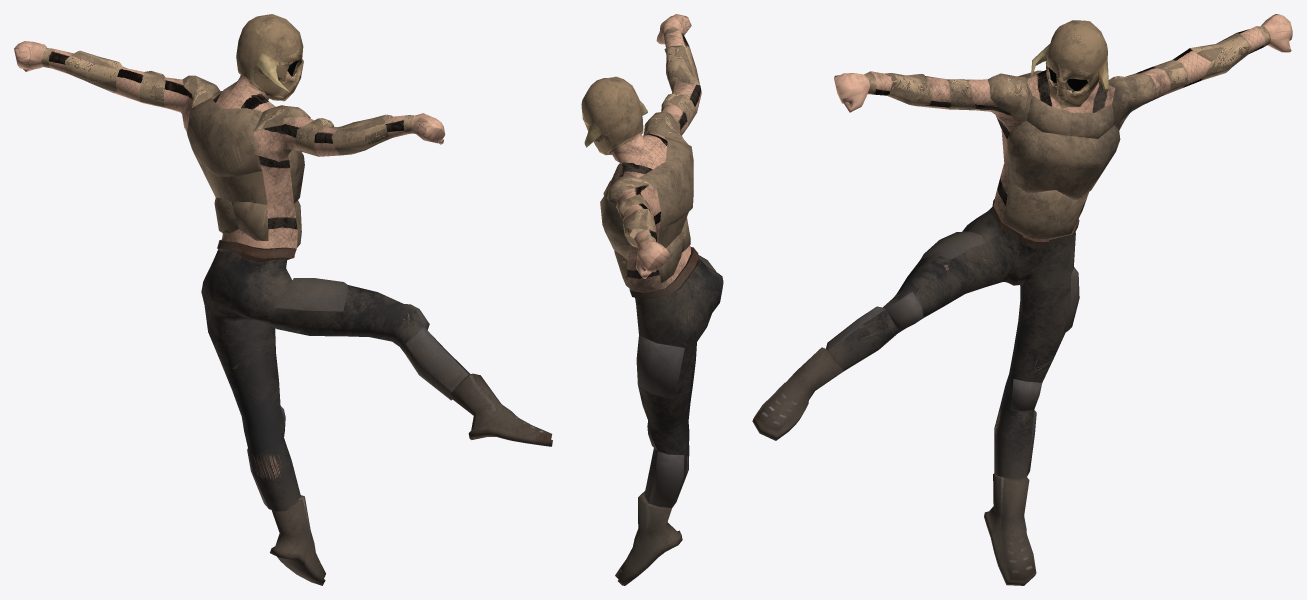
The model's file is Anim_ataque_f3_npc1.0029.obj.
3 views of the same model, side by side, from view 1: azimuth 30°, elevation 25°; view 2: azimuth 150°, elevation 25°; view 3: azimuth 270°, elevation 25° (orthographic). The views are drawn at different scales.
Visible parts, largest first — view 1: NPC2; view 2: NPC2; view 3: NPC2.
Part boxes in pixels (left/top/right/bottom): NPC2: left=14, top=14, right=552, bottom=585; NPC2: left=581, top=14, right=723, bottom=585; NPC2: left=752, top=14, right=1292, bottom=585.
Size of the model in its own units: 5.5 by 10.07 by 8.89.
